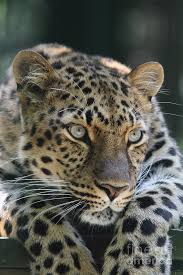amur_leopard: (6, 18, 183, 269)
